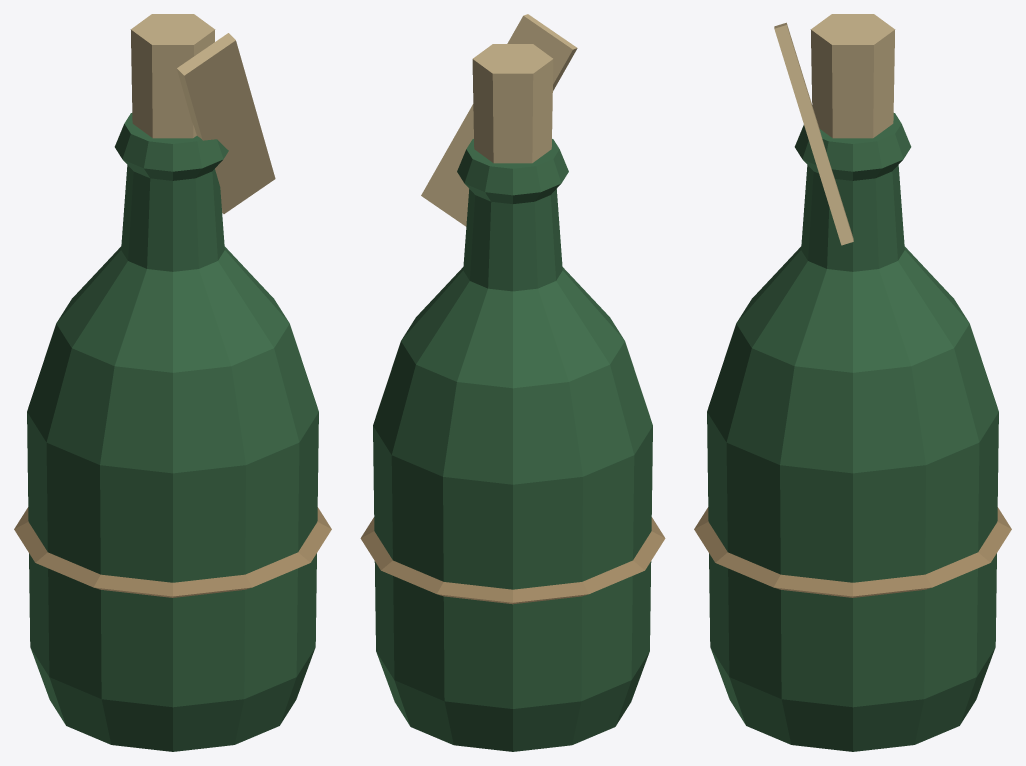
File: firebottle.glb
The picture shows the model from 3 angles, left to right: view 1: azimuth 30°, elevation 25°; view 2: azimuth 150°, elevation 25°; view 3: azimuth 270°, elevation 25°; orthographic projection. The views are drawn at different scales.
Visible parts, largest first — view 1: firebottle; view 2: firebottle; view 3: firebottle.
Part boxes in pixels (x1,y1,x2,y2): firebottle: (14, 14, 331, 751); firebottle: (360, 14, 665, 751); firebottle: (694, 14, 1011, 751).
Bounding box in the file's own units: 0.098 × 0.2352 × 0.098.
